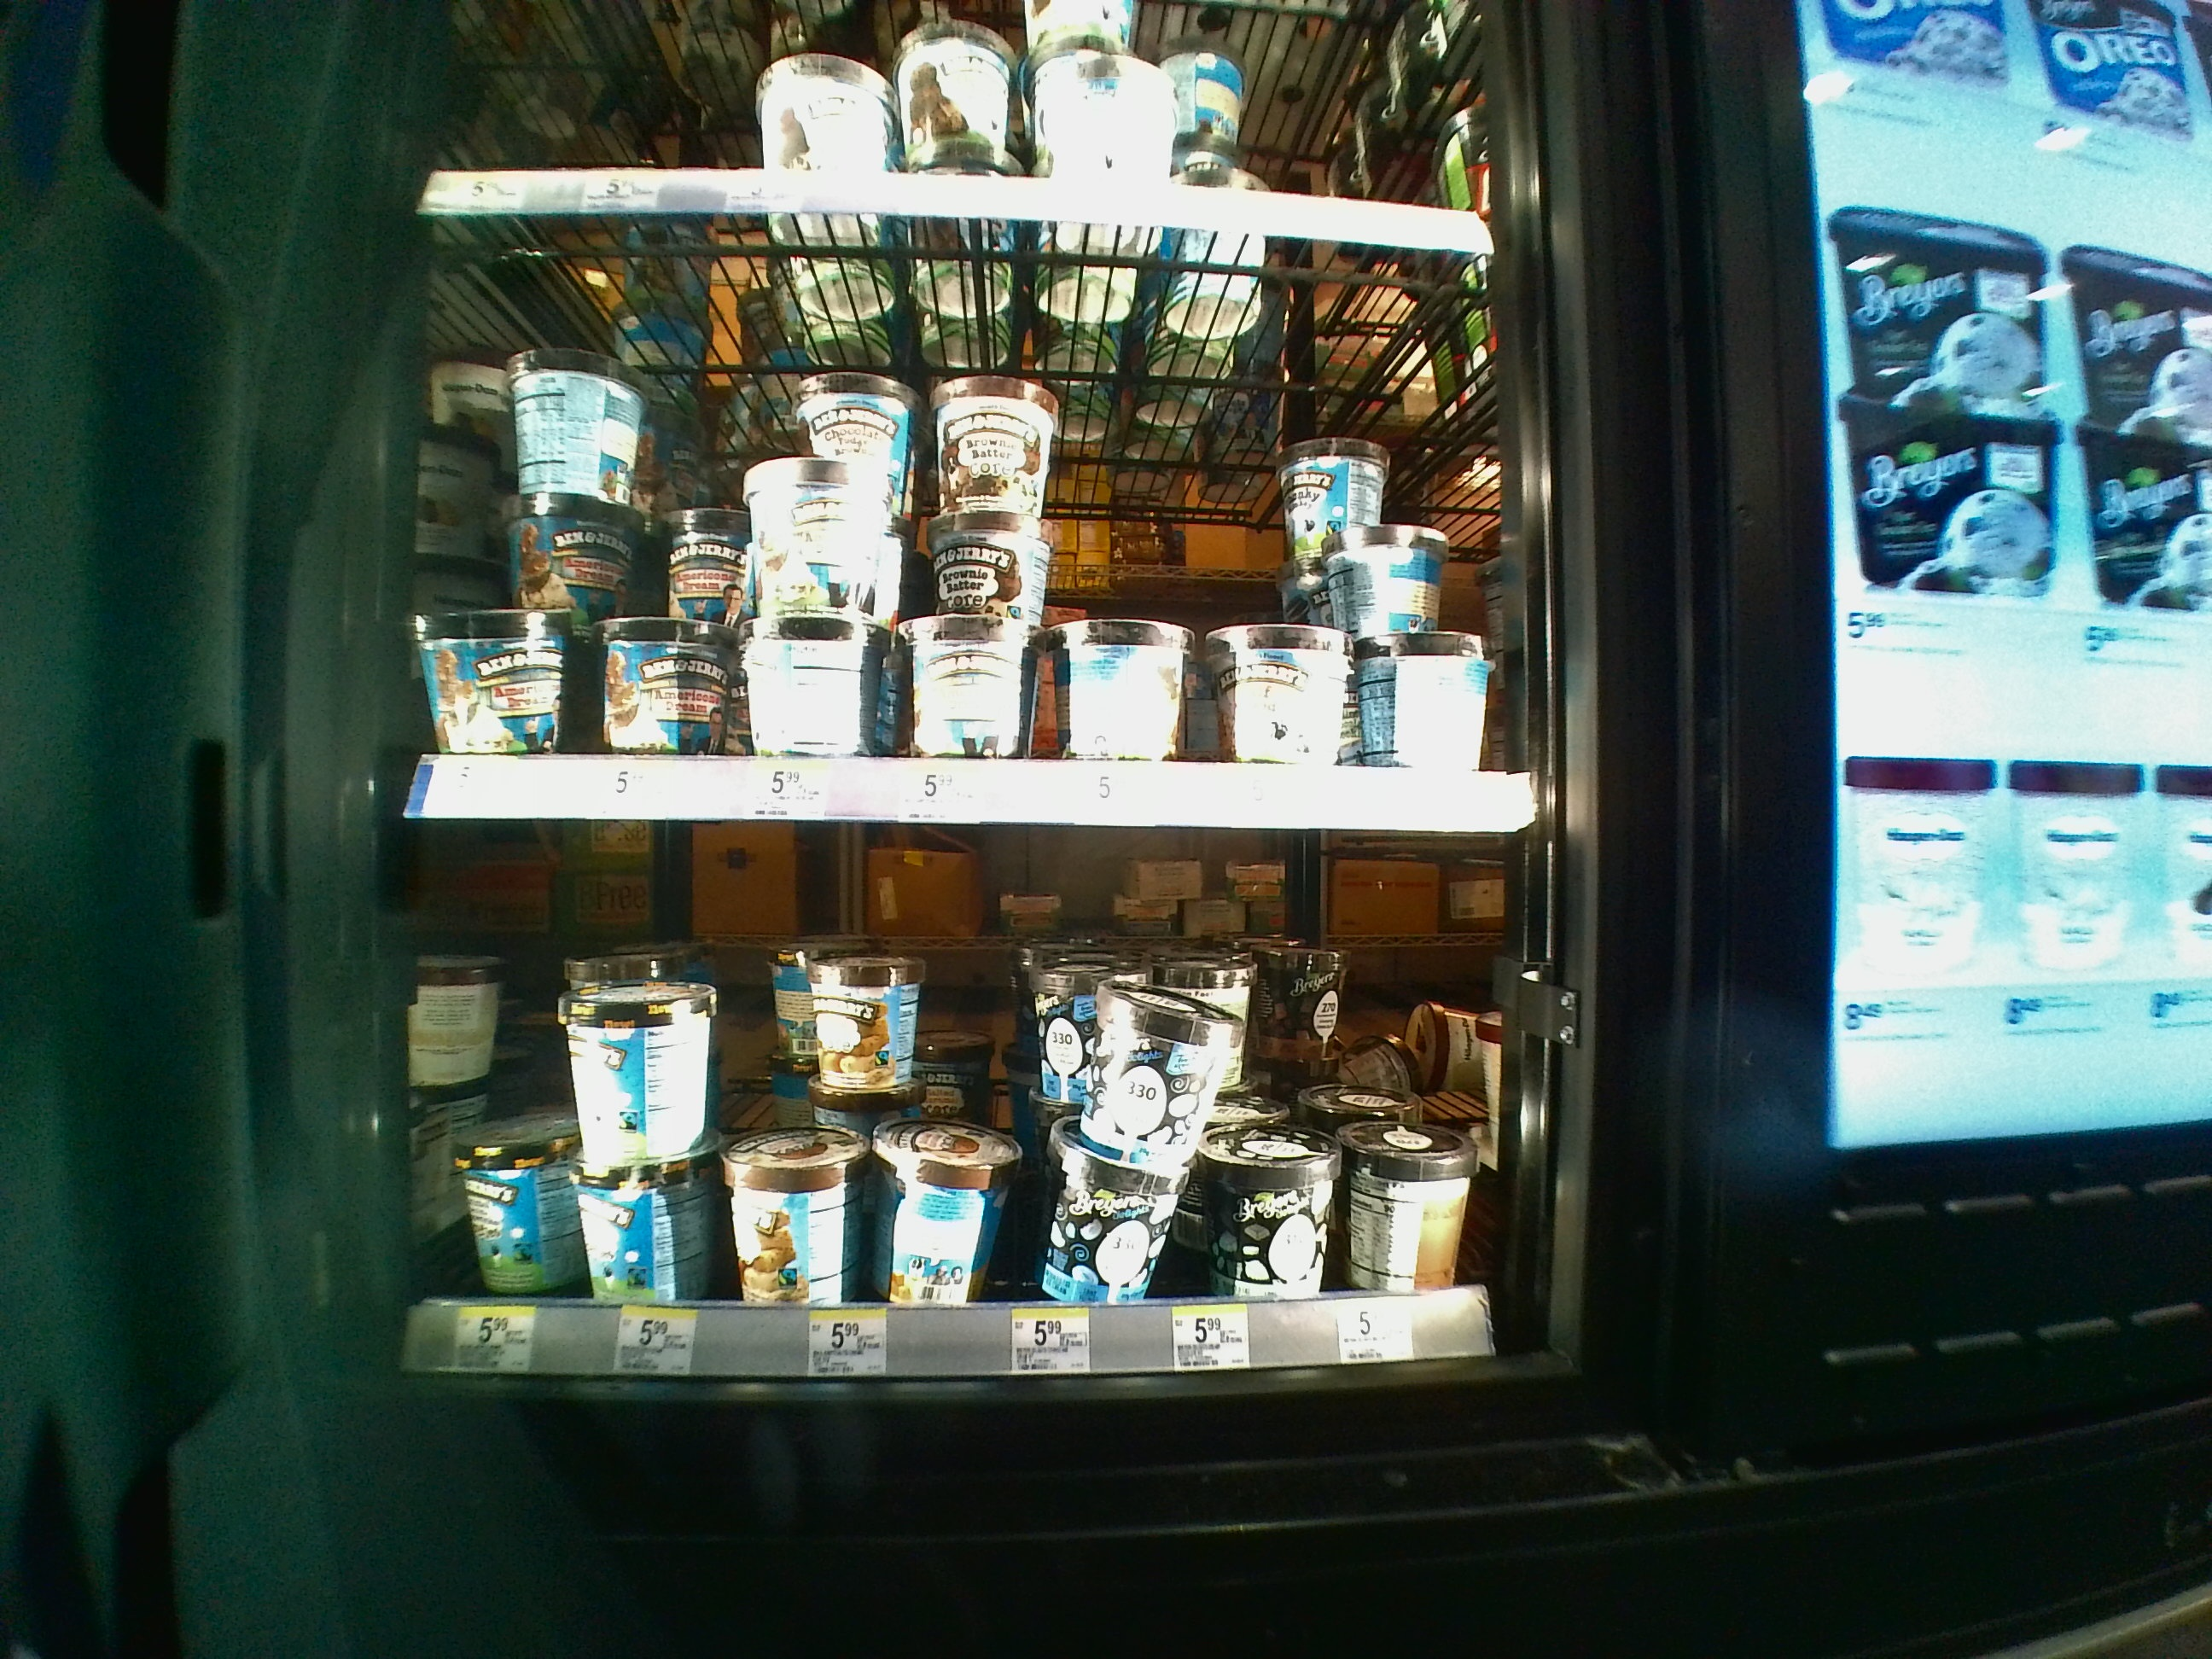shelf: (404, 214, 1531, 828), (404, 842, 1538, 1373)
